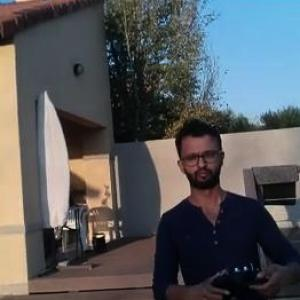follow: (147, 105, 300, 299)
